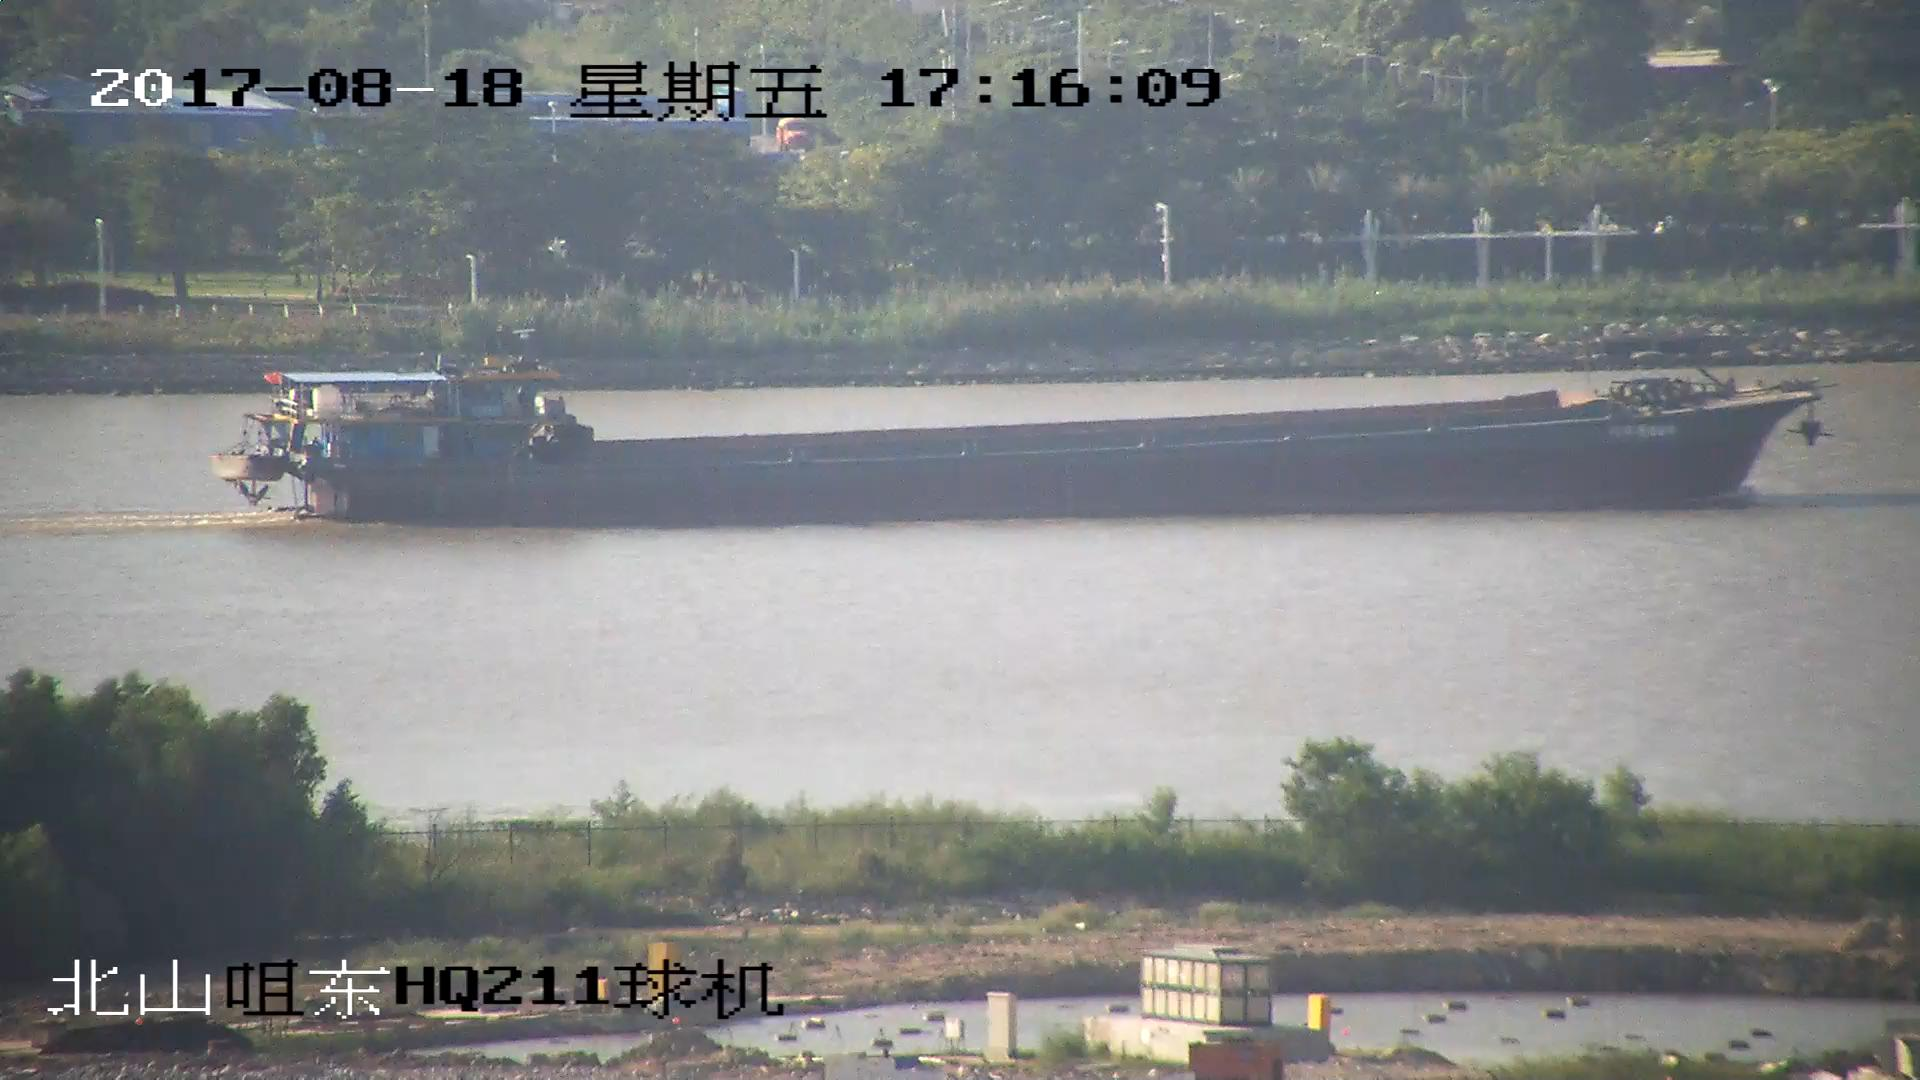bulk cargo carrier: (211, 348, 1832, 528)
